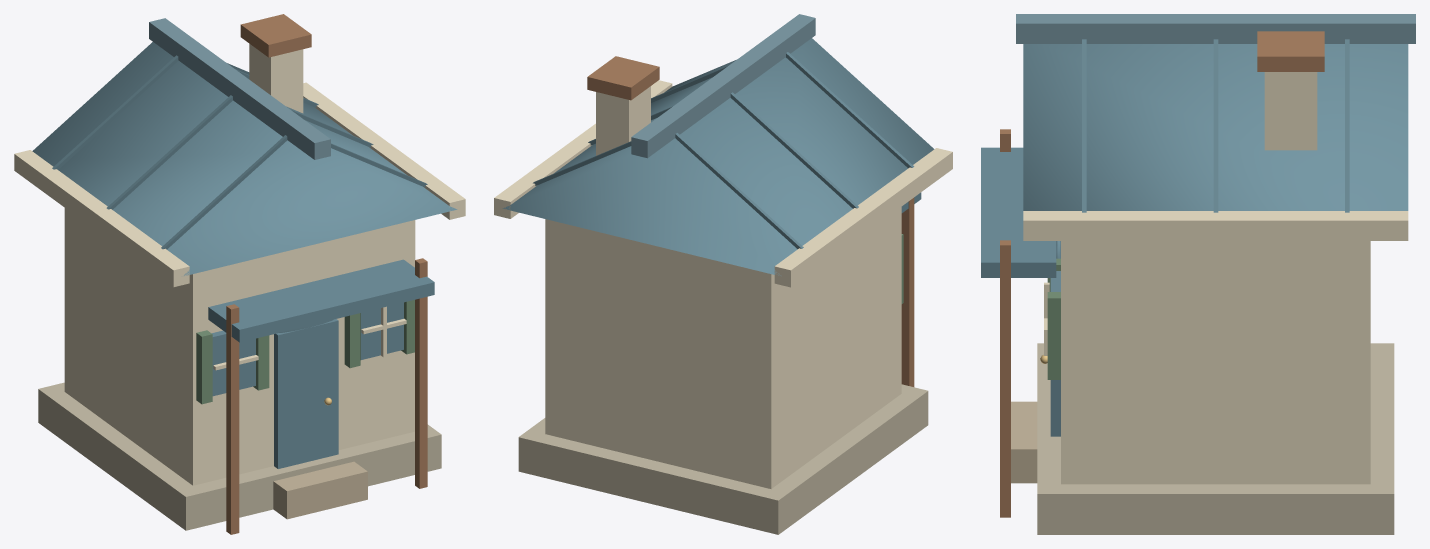
File: house_coast.glb
3 views of the same model, side by side, from view 1: azimuth 30°, elevation 25°; view 2: azimuth 150°, elevation 25°; view 3: azimuth 270°, elevation 25° (orthographic). The views are drawn at different scales.
Parts seen in each view (by area): view 1: _MeshInstance3D_31, _MeshInstance3D_32, _MeshInstance3D_30, _MeshInstance3D_42, _MeshInstance3D_58, _MeshInstance3D_33, _MeshInstance3D_34, _MeshInstance3D_57, _MeshInstance3D_38, _MeshInstance3D_59, _MeshInstance3D_60, _MeshInstance3D_55 (+10 smaller); view 2: _MeshInstance3D_31, _MeshInstance3D_32, _MeshInstance3D_30, _MeshInstance3D_33, _MeshInstance3D_34, _MeshInstance3D_55, _MeshInstance3D_59, _MeshInstance3D_38, _MeshInstance3D_56, _MeshInstance3D_36, _MeshInstance3D_35, _MeshInstance3D_37 (+1 smaller); view 3: _MeshInstance3D_31, _MeshInstance3D_32, _MeshInstance3D_30, _MeshInstance3D_38, _MeshInstance3D_33, _MeshInstance3D_58, _MeshInstance3D_55, _MeshInstance3D_60, _MeshInstance3D_56, _MeshInstance3D_57, _MeshInstance3D_52, _MeshInstance3D_40 (+3 smaller).
Part boxes in pixels (x1,y1,x2,y2): _MeshInstance3D_31: (64,208,415,485); _MeshInstance3D_32: (32,42,457,275); _MeshInstance3D_30: (38,382,441,530); _MeshInstance3D_42: (274,319,338,468); _MeshInstance3D_58: (208,259,434,342); _MeshInstance3D_33: (149,18,330,159); _MeshInstance3D_34: (14,150,189,287); _MeshInstance3D_57: (273,461,367,519); _MeshInstance3D_38: (303,82,465,219); _MeshInstance3D_59: (226,304,239,534); _MeshInstance3D_60: (415,258,427,488); _MeshInstance3D_55: (249,44,303,113); _MeshInstance3D_31: (545,207,901,488); _MeshInstance3D_32: (502,38,934,275); _MeshInstance3D_30: (518,384,928,534); _MeshInstance3D_33: (631,14,815,158); _MeshInstance3D_34: (774,148,952,287); _MeshInstance3D_55: (596,86,650,155); _MeshInstance3D_59: (901,197,914,386); _MeshInstance3D_38: (494,80,672,218); _MeshInstance3D_56: (587,56,659,100); _MeshInstance3D_36: (730,92,858,208); _MeshInstance3D_35: (675,133,803,248); _MeshInstance3D_37: (786,52,914,168); _MeshInstance3D_31: (1061,241,1370,484); _MeshInstance3D_32: (1023,44,1408,210); _MeshInstance3D_30: (1037,343,1394,534); _MeshInstance3D_38: (1023,211,1408,240); _MeshInstance3D_33: (1016,14,1415,43); _MeshInstance3D_58: (981,147,1056,277); _MeshInstance3D_55: (1264,72,1317,150); _MeshInstance3D_60: (1000,240,1010,517); _MeshInstance3D_56: (1257,31,1324,71); _MeshInstance3D_57: (1011,401,1037,483); _MeshInstance3D_52: (1047,292,1060,379); _MeshInstance3D_40: (1213,39,1218,212).
Bounding box in the file's own units: 2.17 × 2.68 × 2.32.
